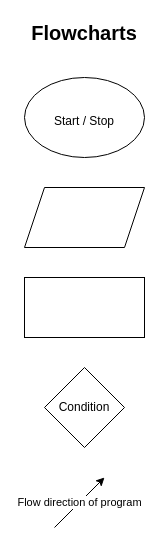
Some shapes in this 162 by 553 pixel diagram are drawn without their labels. The shapes that lost their labels are listed below. From the top down, each one's centre as x and y in pixels, then its label:
At (84,217): "Input / Output".
At (84,307): "Processing".
